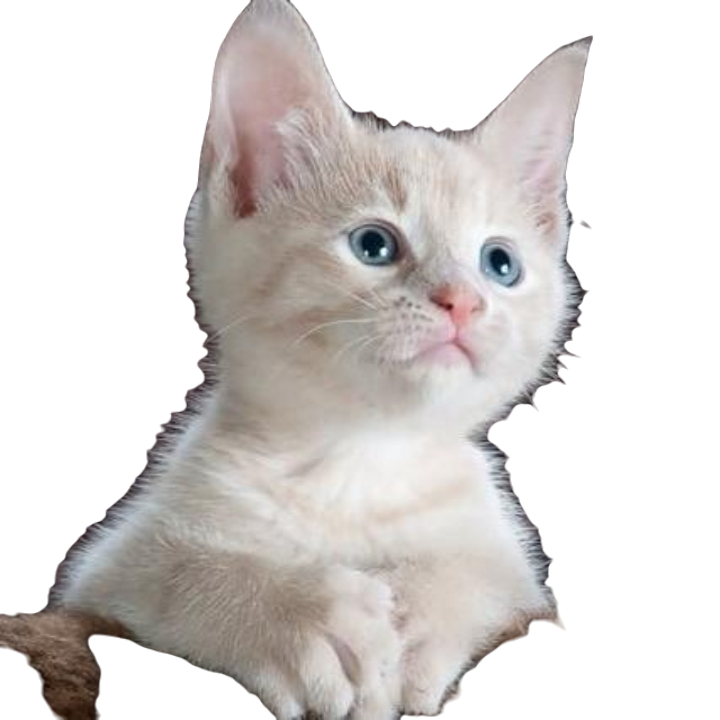Cat: (22, 0, 599, 719)
